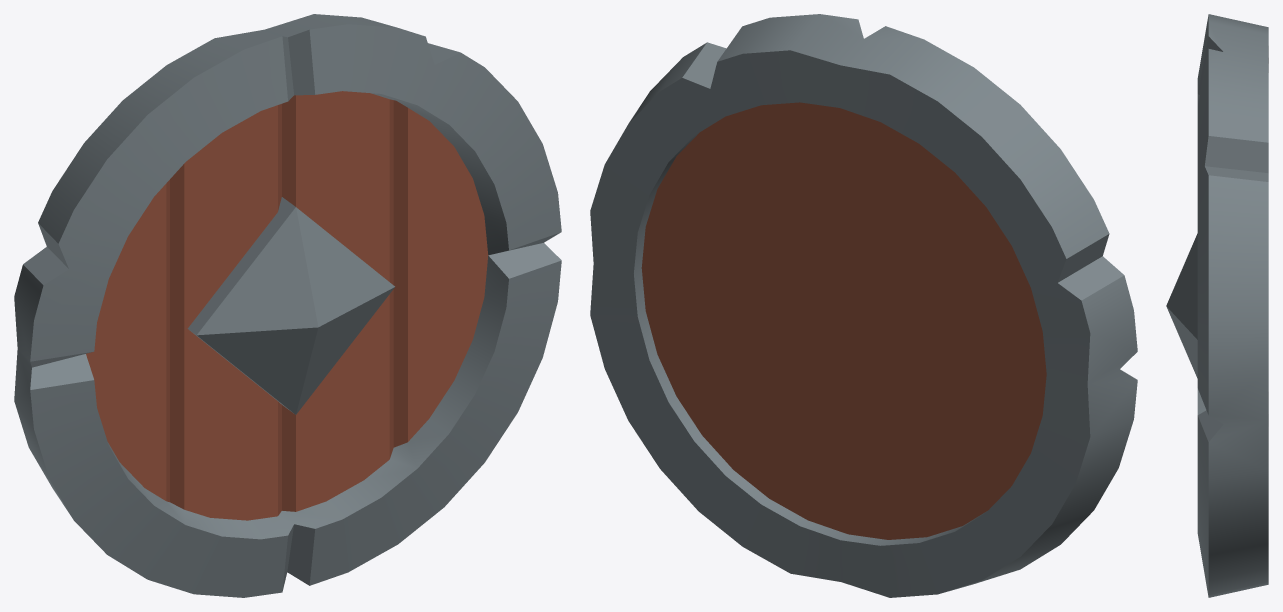
Rendered from shield.glb.
The picture shows the model from 3 angles, left to right: view 1: azimuth 30°, elevation 25°; view 2: azimuth 150°, elevation 25°; view 3: azimuth 270°, elevation 25°; orthographic projection. The views are drawn at different scales.
Visible parts, largest first — view 1: shield; view 2: shield; view 3: shield.
Part boxes in pixels (x1,y1,x2,y2): shield: [14, 14, 561, 597]; shield: [590, 14, 1137, 597]; shield: [1166, 14, 1268, 597].
Size of the model in its own units: 0.1681 by 0.1681 by 0.0296.
